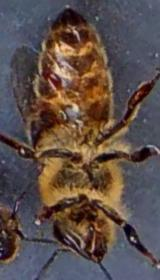varroa_mite: (27, 61, 70, 98)
